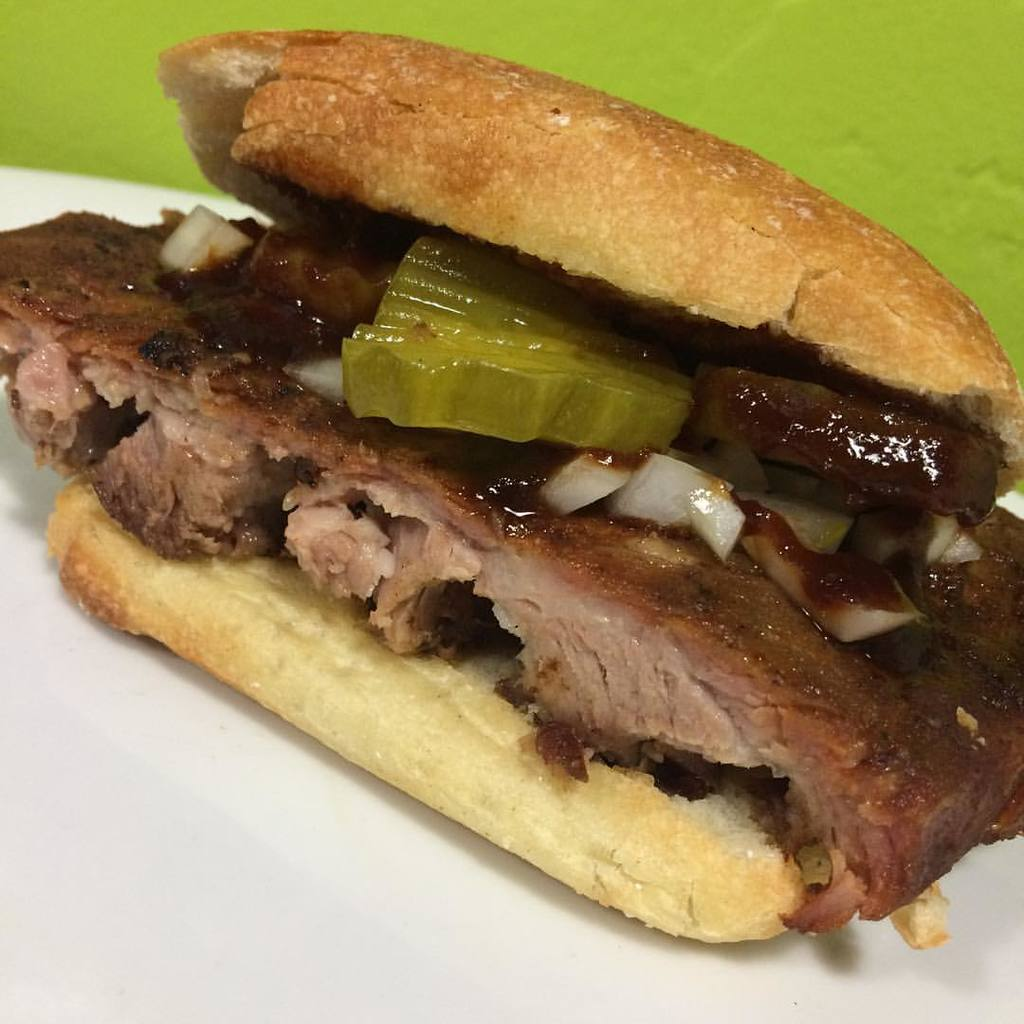Hamburger: (0, 24, 1023, 946)
